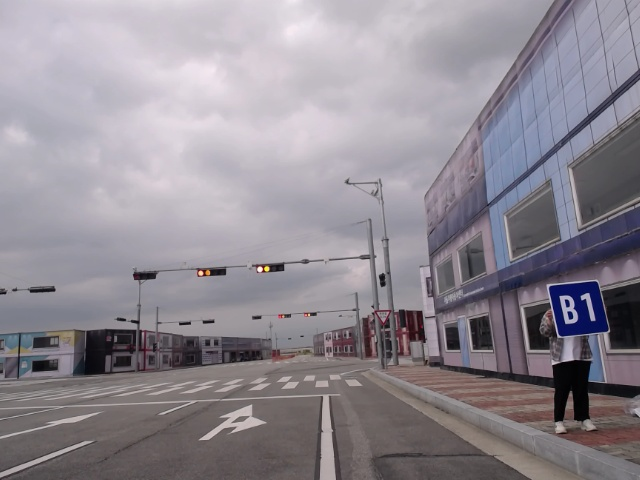delivery_b1: (548, 280, 610, 337)
